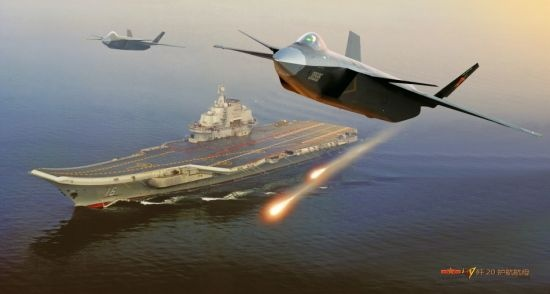airplane: (209, 27, 546, 140), (79, 25, 184, 57)
warship: (21, 87, 356, 208)
